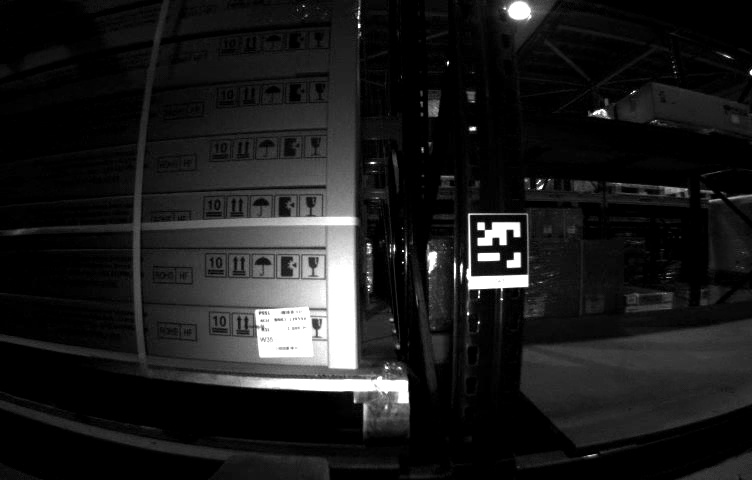True Barcode: (254, 307, 314, 356)
